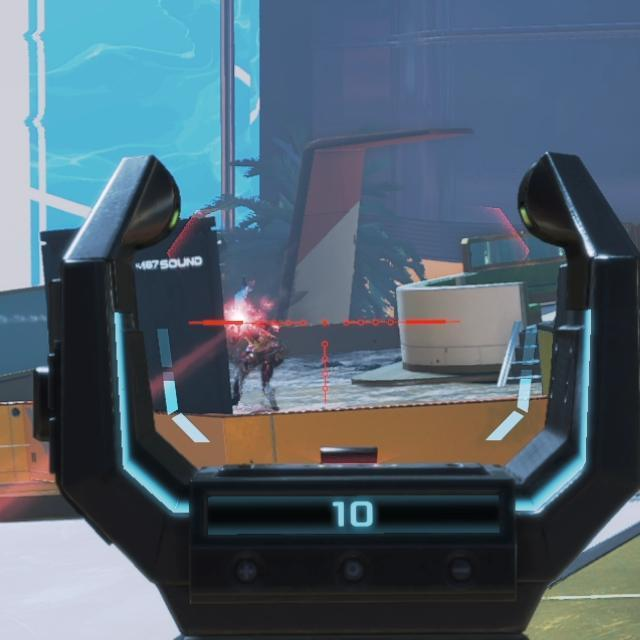avatar: (229, 298, 283, 416)
